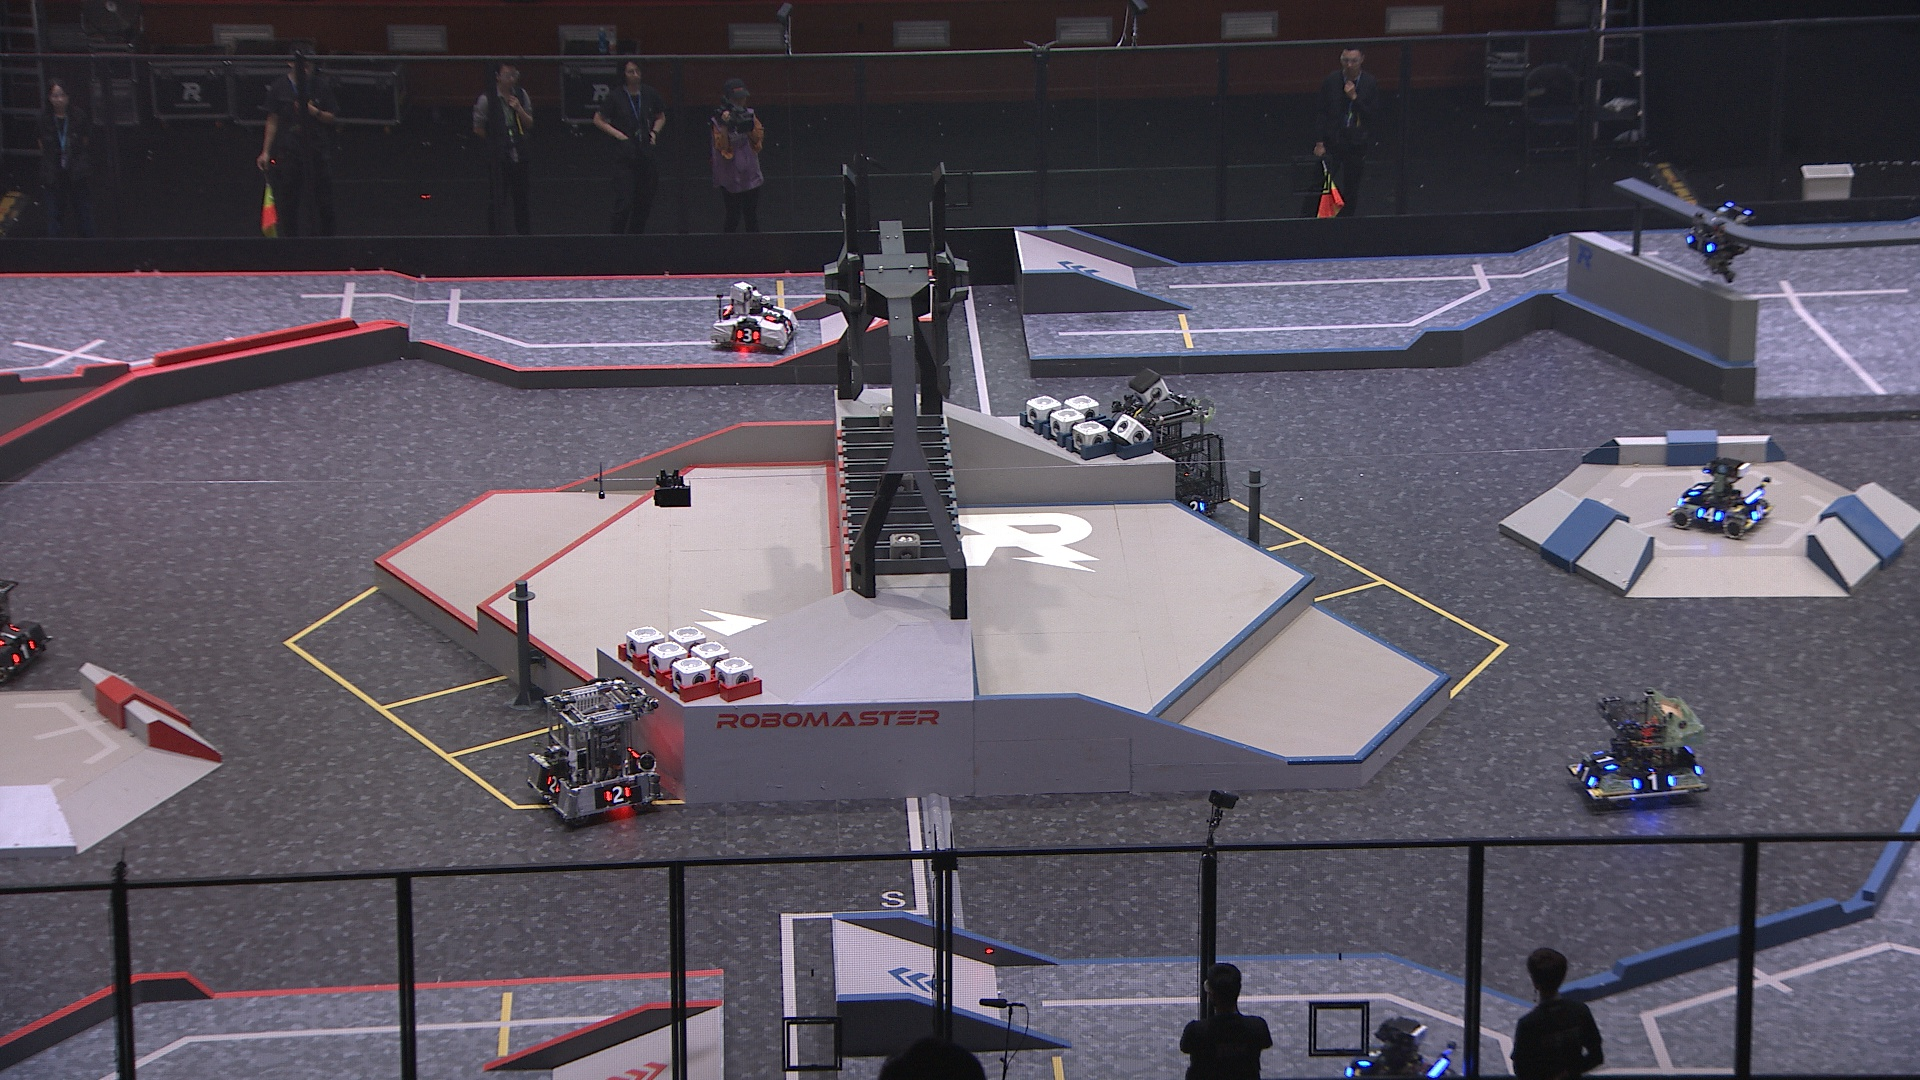armor: (1631, 771, 1676, 793), (11, 640, 38, 665), (1684, 235, 1716, 255), (1576, 760, 1598, 787), (1589, 752, 1618, 773), (1356, 1048, 1382, 1071), (604, 785, 633, 804), (1697, 504, 1726, 522), (541, 771, 564, 794), (733, 324, 757, 343), (1183, 496, 1207, 514), (1689, 481, 1712, 498), (764, 305, 783, 322), (1750, 501, 1766, 522), (782, 320, 794, 335)
car: (524, 676, 666, 829), (1565, 688, 1712, 812), (1110, 396, 1232, 524), (1667, 454, 1774, 538), (1342, 1015, 1461, 1080), (709, 281, 800, 356)
watcher: (1684, 200, 1756, 281)
